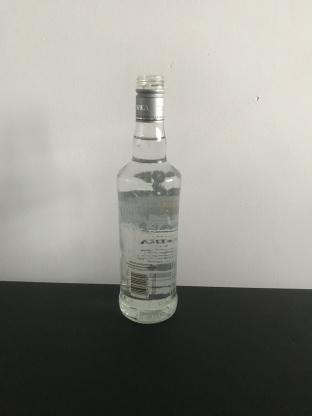nakretka: (133, 70, 166, 123)
